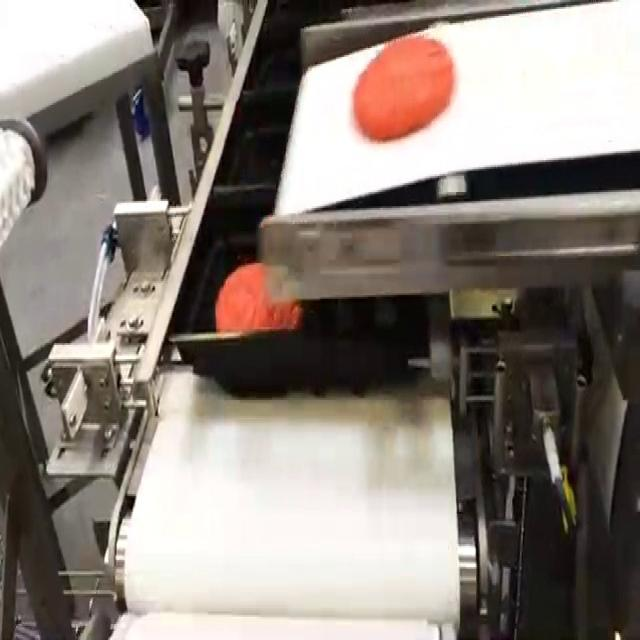hamburguer: (353, 34, 455, 140)
